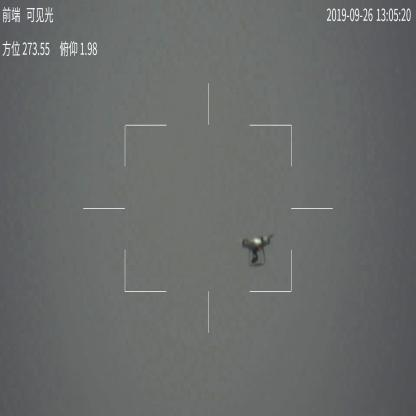uav: (237, 233, 274, 269)
